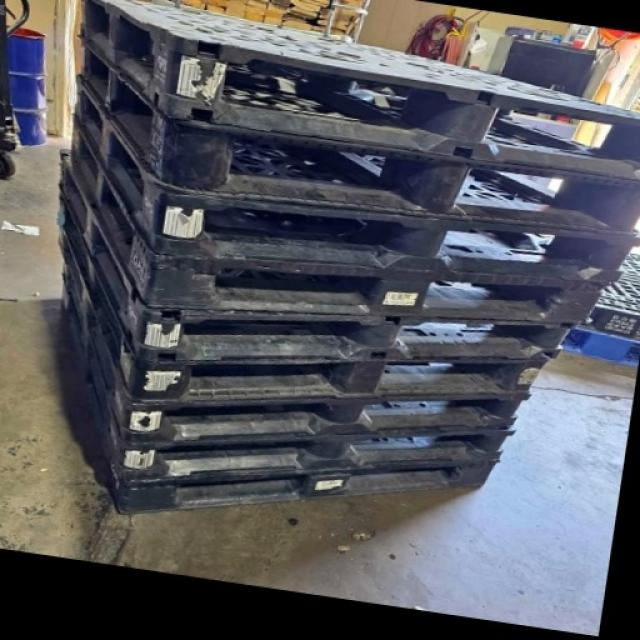igps: (54, 0, 638, 199), (161, 115, 640, 242), (156, 184, 640, 288), (152, 250, 640, 327), (141, 304, 586, 364), (119, 424, 516, 488), (123, 389, 532, 448), (122, 456, 502, 517), (138, 353, 554, 408)
